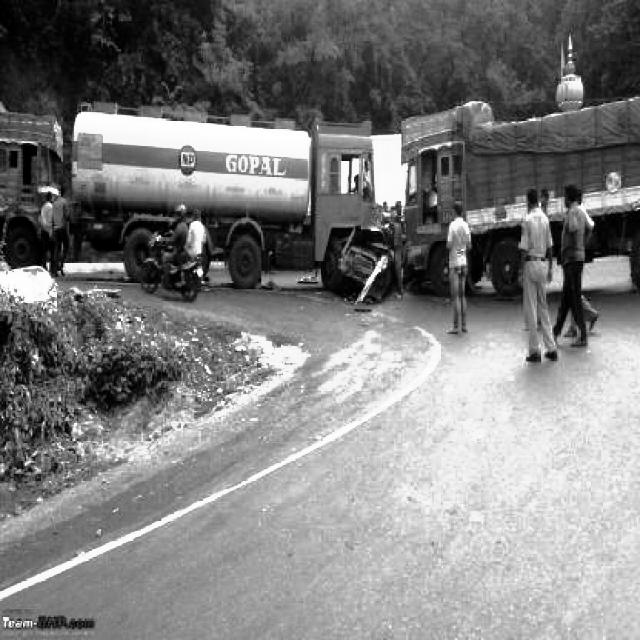HCV: (74, 97, 381, 275), (398, 102, 640, 303), (0, 100, 62, 252)
